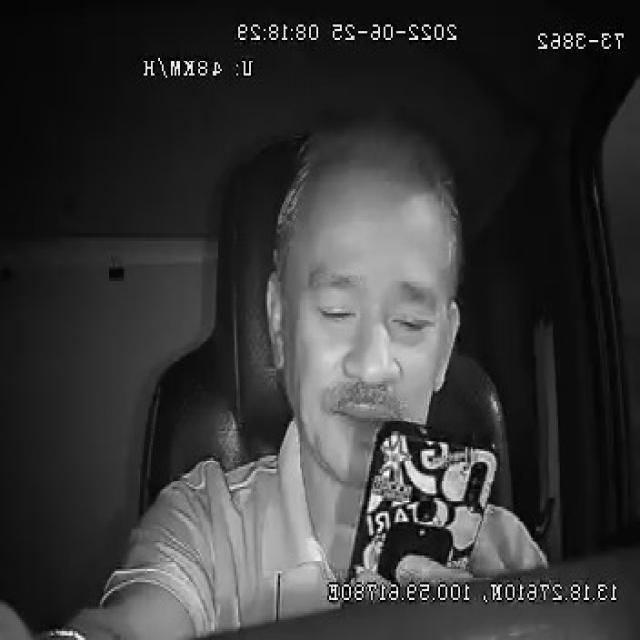phone: (348, 419, 498, 580)
